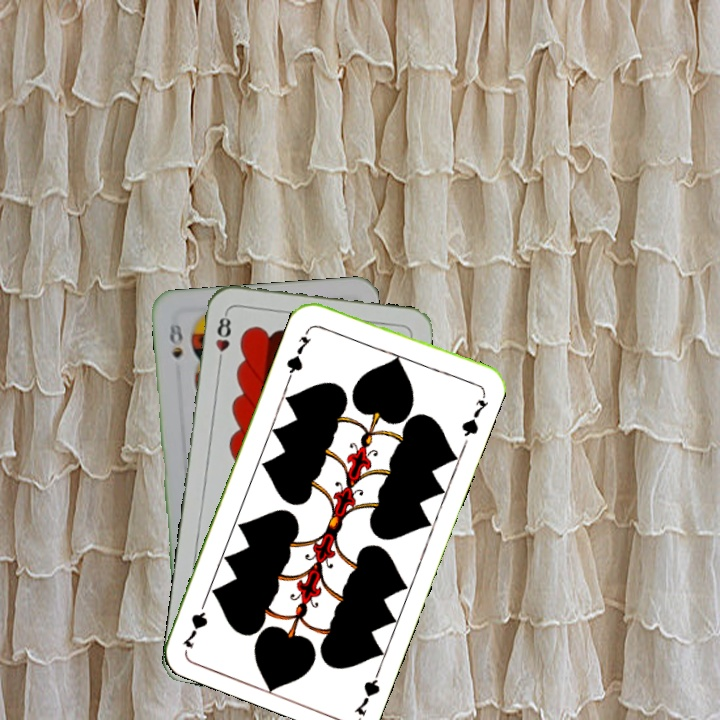G7: (349, 661, 385, 718), (282, 331, 313, 379)
H8: (211, 309, 234, 368)
S8: (165, 319, 186, 362)
